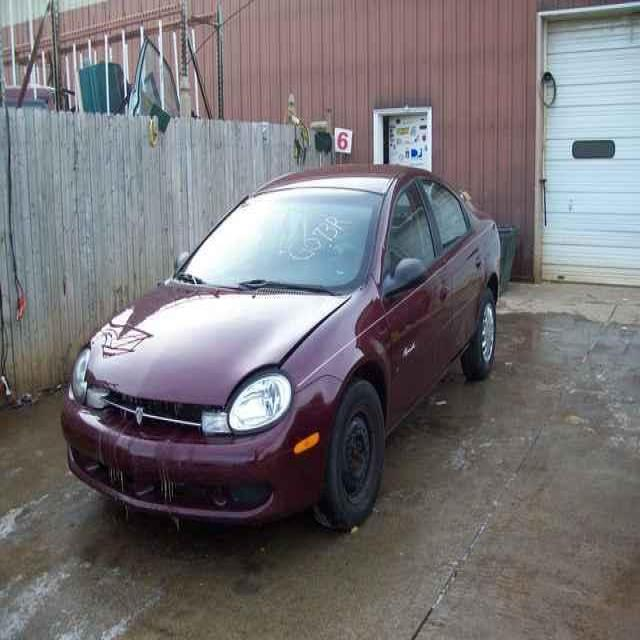Car: (39, 137, 522, 520)
